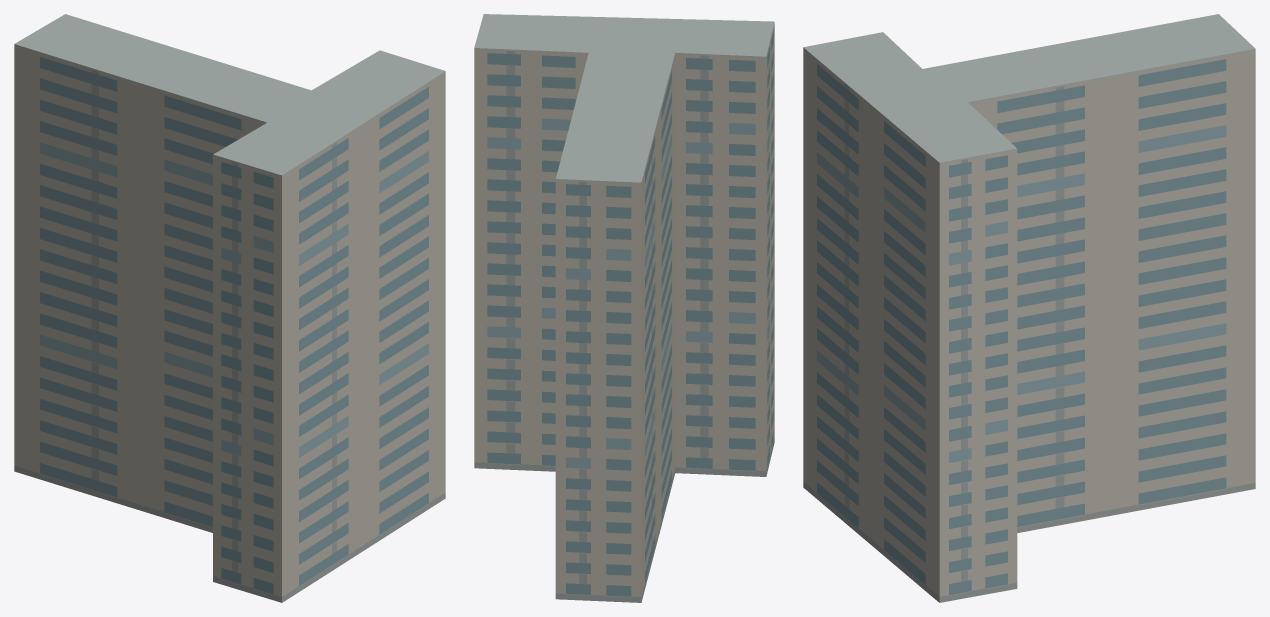
The model's file is residential-9a33de8e-2f08-4b5f-a6c7-a4bff0dbeaab.glb.
3 views of the same model, side by side, from view 1: azimuth 30°, elevation 25°; view 2: azimuth 150°, elevation 25°; view 3: azimuth 270°, elevation 25° (orthographic). The views are drawn at different scales.
Visible parts, largest first — view 1: residential-9a33de8e-2f08-4b5f-a6c7-a4bff0dbeaab.tmp; view 2: residential-9a33de8e-2f08-4b5f-a6c7-a4bff0dbeaab.tmp; view 3: residential-9a33de8e-2f08-4b5f-a6c7-a4bff0dbeaab.tmp.
Boxes of the visible parts, bbox=[...] form: residential-9a33de8e-2f08-4b5f-a6c7-a4bff0dbeaab.tmp: bbox=[14, 14, 445, 602]; residential-9a33de8e-2f08-4b5f-a6c7-a4bff0dbeaab.tmp: bbox=[474, 14, 774, 602]; residential-9a33de8e-2f08-4b5f-a6c7-a4bff0dbeaab.tmp: bbox=[803, 14, 1255, 602].
Size of the model in its own units: 45.66 by 63 by 58.7.
